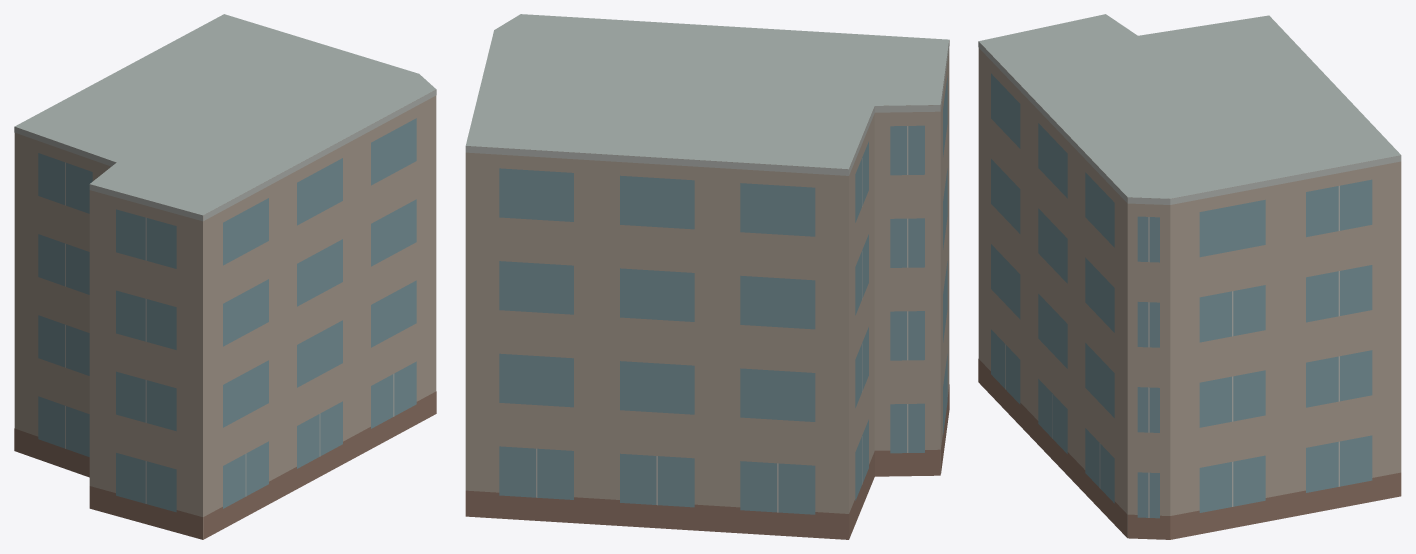
The model's file is survey-upis-32858962.glb.
3 renders of one model, left to right at view 1: azimuth 30°, elevation 25°; view 2: azimuth 150°, elevation 25°; view 3: azimuth 270°, elevation 25°, orthographic. The views are drawn at different scales.
Visible parts, largest first — view 1: survey-upis-32858962.tmp; view 2: survey-upis-32858962.tmp; view 3: survey-upis-32858962.tmp.
Boxes of the visible parts, box(x1,y1,x2,y2) form: survey-upis-32858962.tmp: box(14, 14, 436, 539); survey-upis-32858962.tmp: box(465, 14, 949, 539); survey-upis-32858962.tmp: box(978, 14, 1401, 539).
Bounding box in the file's own units: 15.46 × 13.3 × 14.95.
